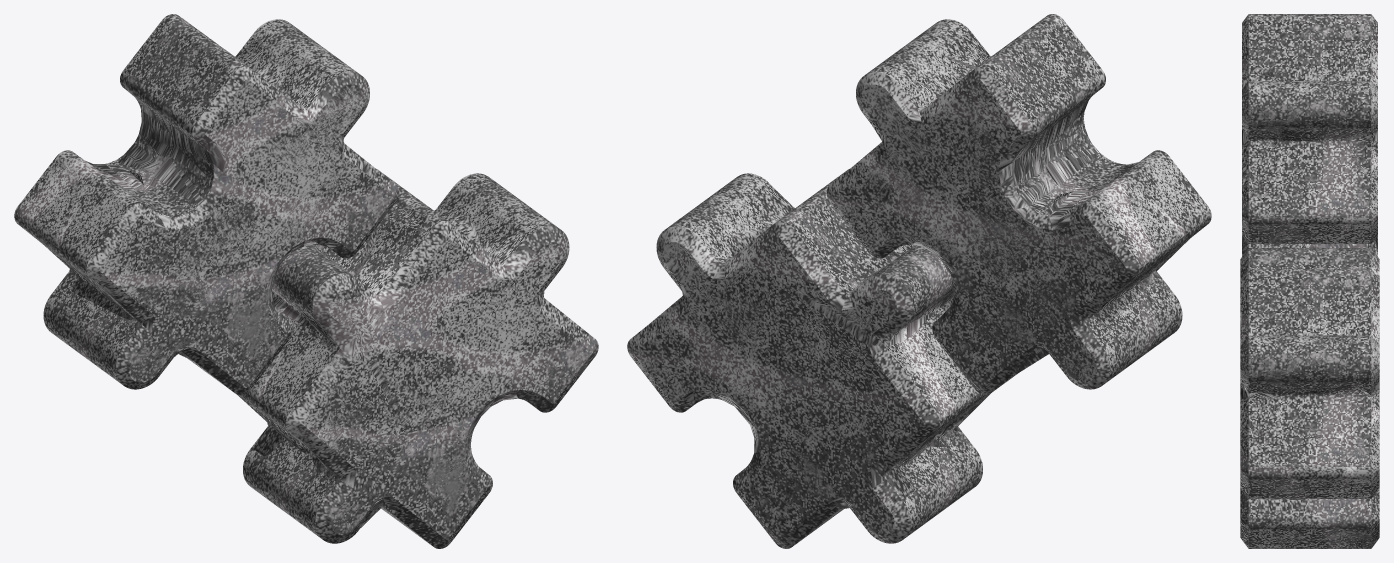
The model's file is puzzle.glb.
The picture shows the model from 3 angles, left to right: view 1: azimuth 30°, elevation 25°; view 2: azimuth 150°, elevation 25°; view 3: azimuth 270°, elevation 25°; orthographic projection. The views are drawn at different scales.
Visible parts, largest first — view 1: Mesh_0.009, Mesh_0.009_cell.018, Mesh_0.009_cell.002, Mesh_0.009_cell.092, Mesh_0.009_cell.064, Mesh_0.009_cell.006, Mesh_0.009_cell.060, Mesh_0.009_cell.086, Mesh_0.009_cell.053, Mesh_0.009_cell.072, Mesh_0.009_cell.067, Mesh_0.009_cell.031 (+16 smaller); view 2: Mesh_0.009, Mesh_0.009_cell.088, Mesh_0.009_cell.004, Mesh_0.009_cell.009, Mesh_0.009_cell.038, Mesh_0.009_cell.083, Mesh_0.009_cell, Mesh_0.009_cell.028, Mesh_0.009_cell.006, Mesh_0.009_cell.070, Mesh_0.009_cell.037, Mesh_0.009_cell.020 (+10 smaller); view 3: Mesh_0.009, Mesh_0.009_cell.020, Mesh_0.009_cell.069, Mesh_0.009_cell.004, Mesh_0.009_cell.094, Mesh_0.009_cell.067, Mesh_0.009_cell.024, Mesh_0.009_cell.038, Mesh_0.009_cell.082, Mesh_0.009_cell.011, Mesh_0.009_cell.017, Mesh_0.009_cell.031 (+4 smaller).
Part boxes in pixels (x1,y1,x2,y2): Mesh_0.009: [14, 14, 598, 548]; Mesh_0.009_cell.018: [387, 257, 529, 353]; Mesh_0.009_cell.002: [302, 380, 389, 503]; Mesh_0.009_cell.092: [290, 63, 363, 154]; Mesh_0.009_cell.064: [353, 242, 421, 339]; Mesh_0.009_cell.006: [138, 121, 242, 221]; Mesh_0.009_cell.060: [393, 406, 466, 496]; Mesh_0.009_cell.086: [272, 159, 374, 257]; Mesh_0.009_cell.053: [246, 117, 319, 220]; Mesh_0.009_cell.072: [294, 292, 371, 377]; Mesh_0.009_cell.067: [164, 35, 287, 123]; Mesh_0.009_cell.031: [388, 202, 541, 279]; Mesh_0.009: [627, 14, 1211, 548]; Mesh_0.009_cell.088: [779, 265, 903, 414]; Mesh_0.009_cell.004: [856, 80, 963, 222]; Mesh_0.009_cell.009: [951, 178, 1054, 282]; Mesh_0.009_cell.038: [932, 92, 1047, 194]; Mesh_0.009_cell.083: [706, 244, 766, 360]; Mesh_0.009_cell: [1011, 247, 1108, 331]; Mesh_0.009_cell.028: [1044, 188, 1144, 287]; Mesh_0.009_cell.006: [1043, 99, 1115, 189]; Mesh_0.009_cell.070: [663, 233, 727, 304]; Mesh_0.009_cell.037: [827, 224, 897, 281]; Mesh_0.009_cell.020: [648, 293, 734, 372]; Mesh_0.009: [1240, 14, 1379, 548]; Mesh_0.009_cell.020: [1286, 383, 1379, 442]; Mesh_0.009_cell.069: [1294, 284, 1370, 335]; Mesh_0.009_cell.004: [1347, 122, 1377, 181]; Mesh_0.009_cell.094: [1257, 499, 1333, 511]; Mesh_0.009_cell.067: [1249, 43, 1356, 80]; Mesh_0.009_cell.024: [1278, 129, 1368, 187]; Mesh_0.009_cell.038: [1343, 38, 1370, 80]; Mesh_0.009_cell.082: [1240, 386, 1278, 417]; Mesh_0.009_cell.011: [1329, 492, 1379, 547]; Mesh_0.009_cell.017: [1276, 480, 1350, 489]; Mesh_0.009_cell.031: [1279, 278, 1326, 335].
Size of the model in its own units: 0.2291 by 0.2266 by 0.0635.
2 materials, 2 textured.
